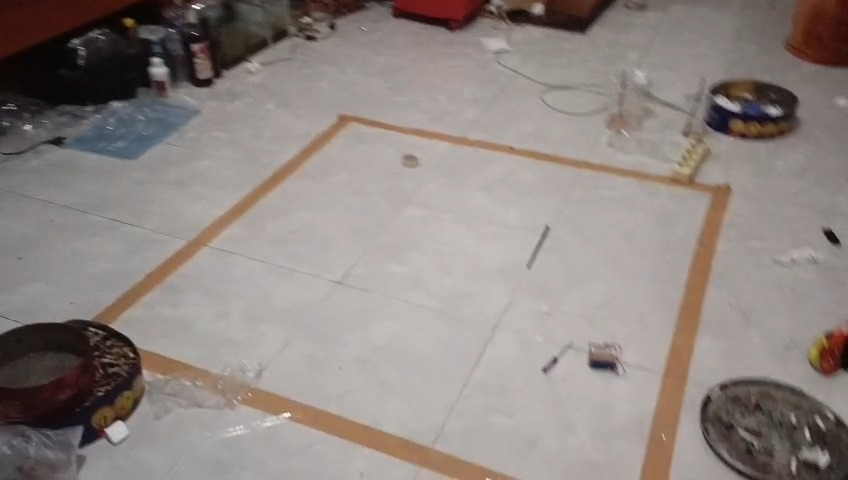floor marking: (94, 114, 731, 479), (245, 390, 502, 477), (141, 350, 212, 376)
